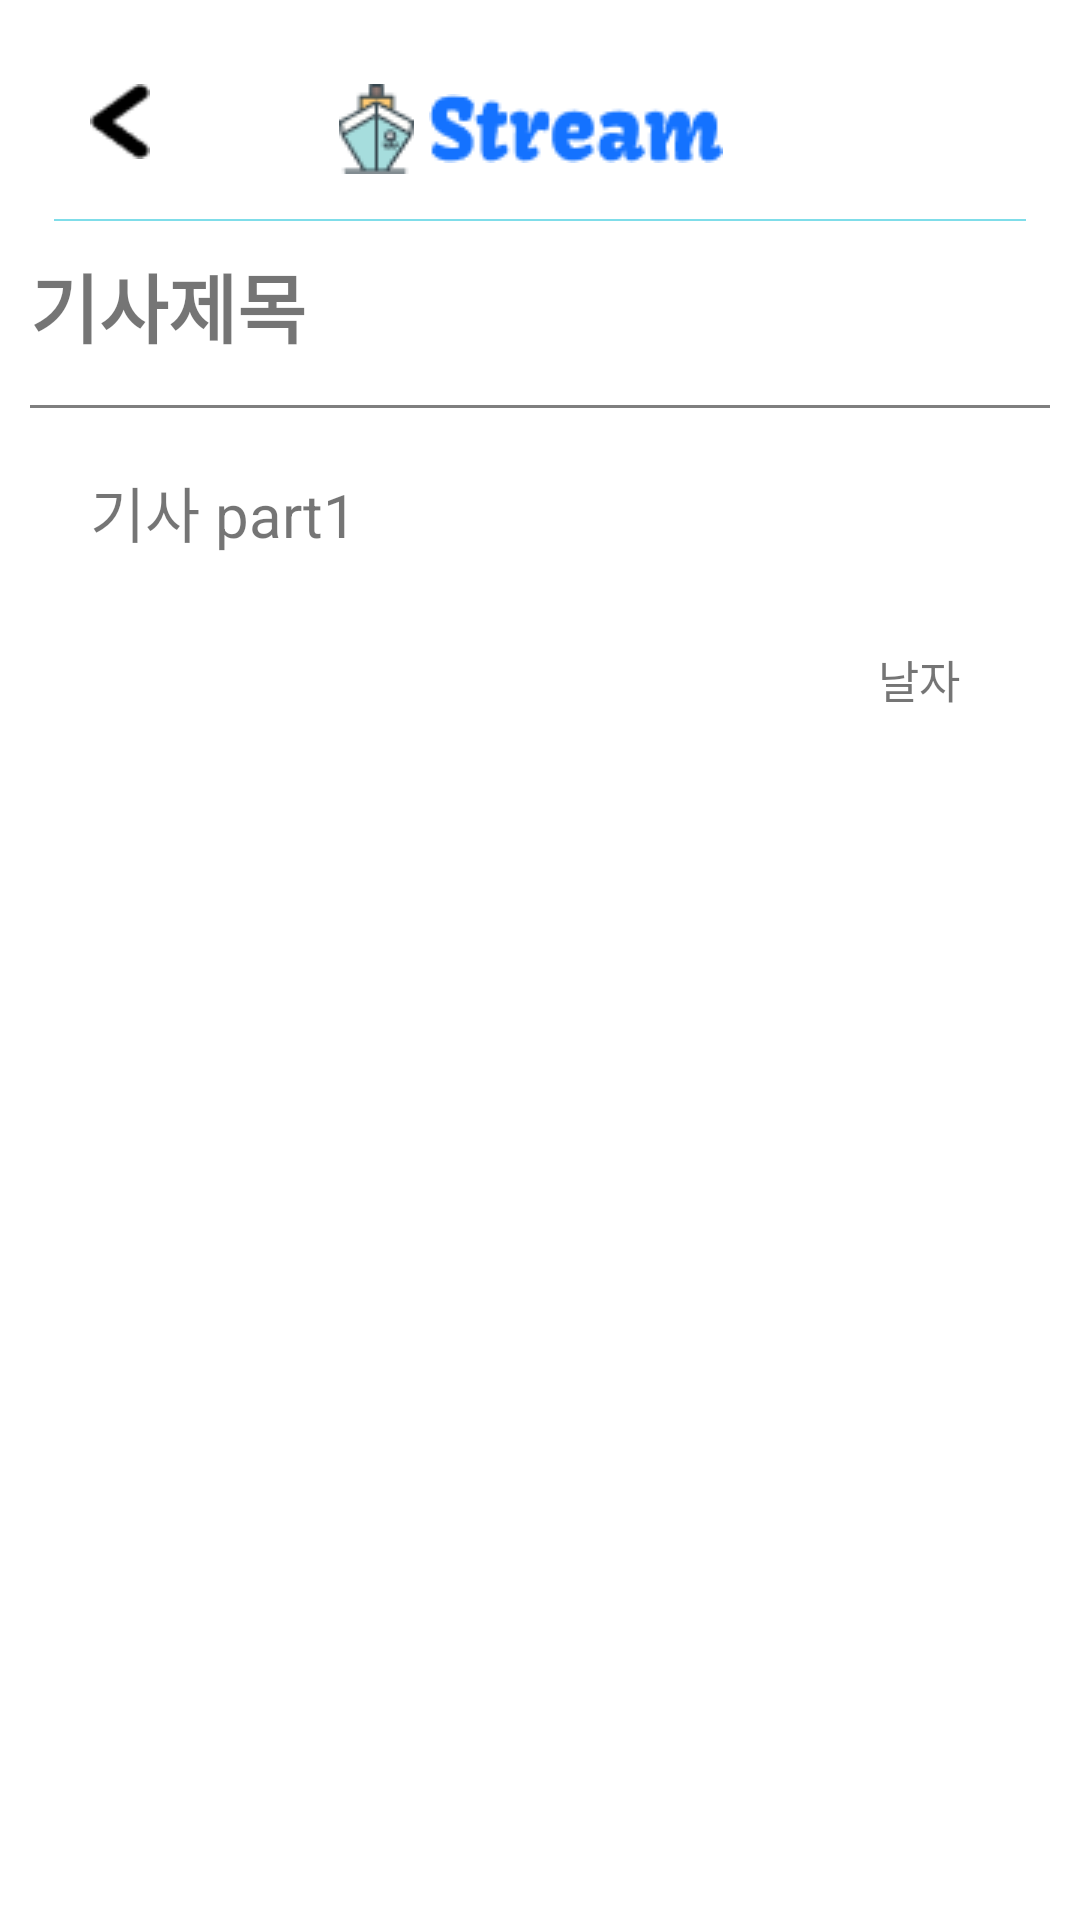

Named icons in this screenshot (1080w x 1920h) and their bounding boxes, (x1, y1, x2, y2):
backvector: (90, 84, 150, 159)
iconcruiseship: (339, 84, 414, 174)
